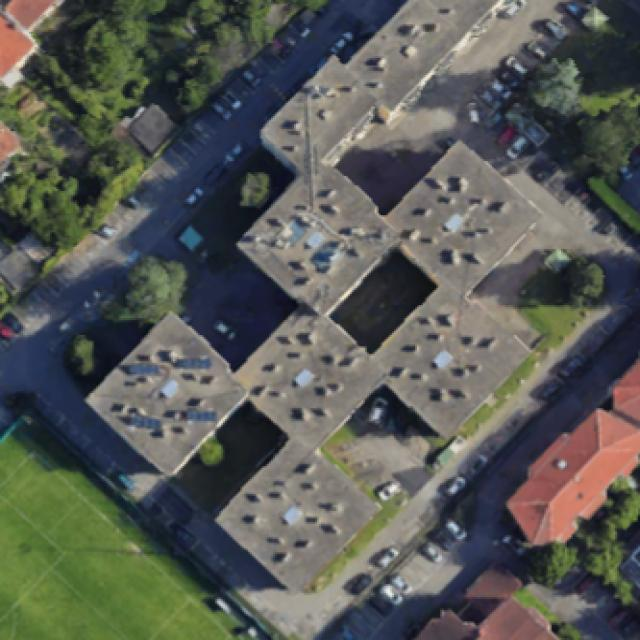immeuble: (233, 151, 405, 323), (84, 308, 253, 478), (213, 430, 379, 595), (365, 276, 527, 439), (379, 139, 538, 299), (231, 297, 385, 451), (342, 0, 506, 116), (259, 54, 379, 177)
